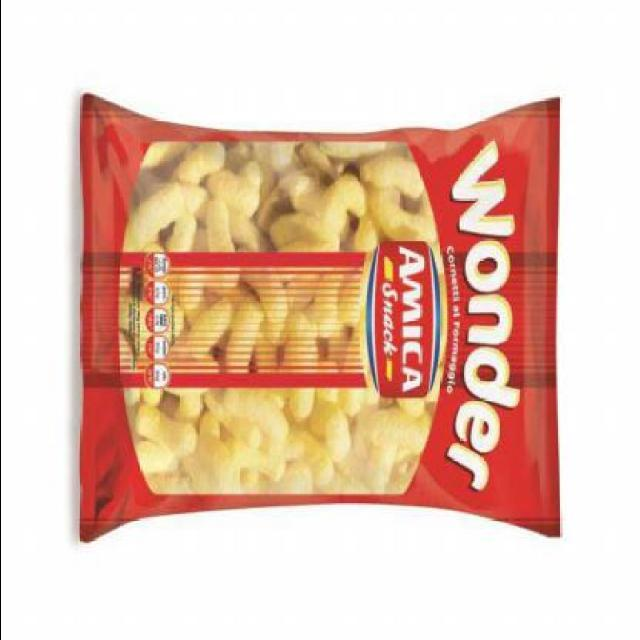Chips: (70, 87, 572, 553)
